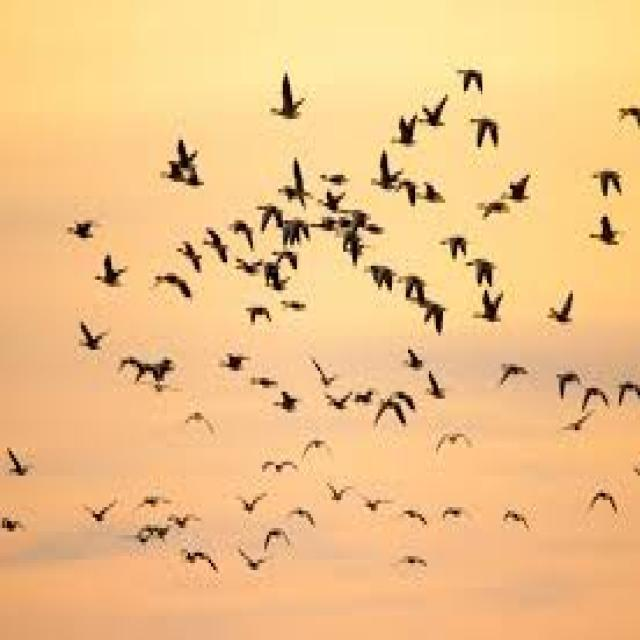bird: (262, 70, 313, 133), (264, 150, 313, 207), (318, 202, 382, 242), (578, 163, 632, 208), (582, 210, 633, 256), (120, 344, 180, 382), (578, 476, 625, 524), (75, 486, 124, 532), (59, 206, 112, 248), (464, 106, 508, 156), (384, 104, 418, 164), (162, 124, 206, 170), (414, 288, 449, 344), (146, 269, 195, 308), (400, 254, 437, 302), (92, 250, 134, 292), (374, 382, 421, 419), (552, 409, 606, 441), (494, 502, 538, 540), (136, 470, 172, 516), (418, 92, 454, 138), (434, 218, 474, 258), (230, 538, 270, 578), (370, 153, 404, 200), (72, 322, 114, 360), (202, 224, 234, 273), (548, 280, 578, 332), (161, 501, 203, 538), (472, 287, 509, 329), (359, 262, 402, 298), (607, 363, 640, 409), (257, 451, 311, 479), (431, 500, 478, 532), (478, 185, 512, 228), (352, 488, 397, 520), (498, 352, 532, 394), (392, 548, 434, 582), (464, 254, 501, 292), (175, 232, 208, 274), (389, 500, 432, 532), (436, 422, 473, 459), (2, 444, 44, 476), (603, 92, 640, 128), (216, 342, 252, 378), (305, 355, 342, 390), (324, 474, 361, 509), (231, 204, 261, 247), (506, 164, 536, 207), (574, 378, 620, 406), (227, 484, 267, 516), (130, 516, 160, 558), (298, 426, 342, 454), (550, 366, 582, 404), (454, 64, 487, 100), (138, 376, 187, 400), (258, 520, 292, 554), (271, 383, 304, 418), (354, 367, 379, 413), (398, 336, 428, 374), (276, 218, 318, 244), (183, 402, 216, 434), (237, 252, 270, 284), (336, 227, 369, 259), (255, 257, 292, 285), (160, 166, 209, 187), (315, 163, 348, 194), (328, 388, 354, 427), (0, 512, 28, 548), (182, 540, 217, 568), (278, 294, 313, 322), (285, 500, 320, 528), (400, 176, 421, 218), (243, 300, 276, 326), (427, 368, 448, 406), (258, 201, 286, 229), (421, 180, 451, 205), (248, 367, 281, 388)
